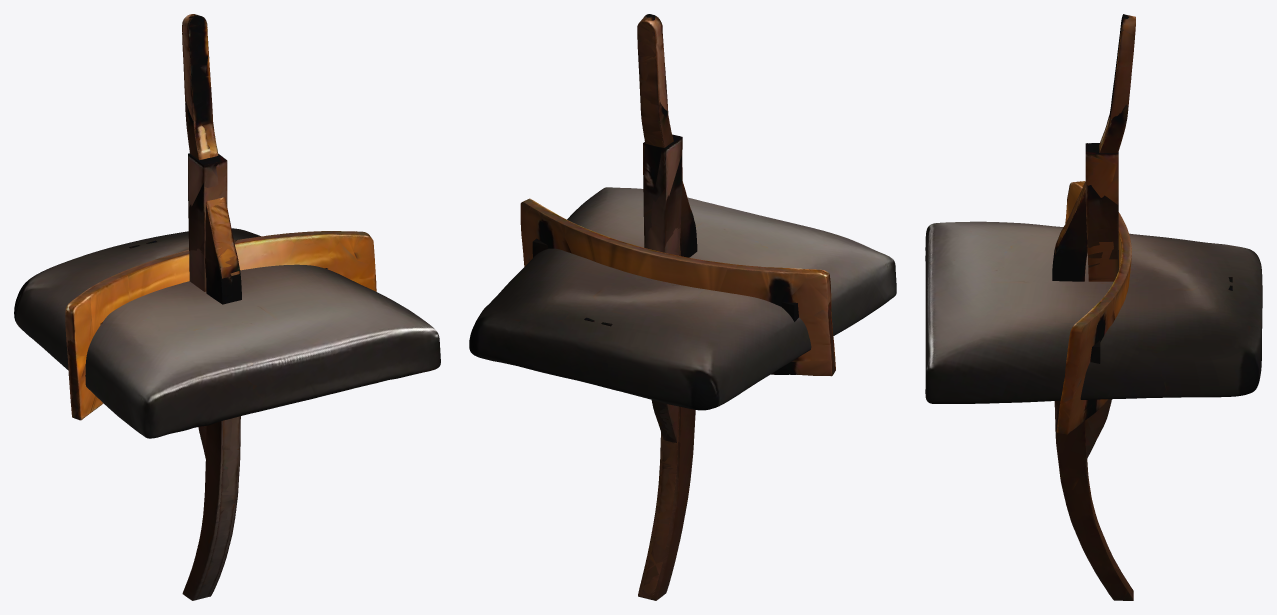
The picture shows the model from 3 angles, left to right: view 1: azimuth 30°, elevation 25°; view 2: azimuth 150°, elevation 25°; view 3: azimuth 270°, elevation 25°; orthographic projection.
Visible parts, largest first — view 1: root.0, root.1, root.2, root.3, root.6, root.5; view 2: root.0, root.1, root.2, root.3, root.6, root.5; view 3: root.0, root.3, root.1, root.5, root.2, root.6.
Part boxes in pixels (x1,y1,x2,y2): root.0: (14,228,440,438); root.1: (65,231,376,420); root.2: (182,14,239,600); root.3: (182,14,241,597); root.6: (188,153,227,458); root.5: (188,153,227,281); root.0: (469,187,896,410); root.1: (520,198,835,376); root.2: (637,14,697,600); root.3: (637,14,680,599); root.6: (643,134,682,442); root.5: (643,142,682,442); root.0: (925,221,1262,403); root.3: (1052,14,1135,600); root.1: (1056,181,1131,434); root.5: (1085,149,1118,458); root.2: (1052,14,1135,595); root.6: (1085,143,1118,269).
Bounding box in the file's own units: 21863 × 39559 × 20798.
1 material, 1 textured.
